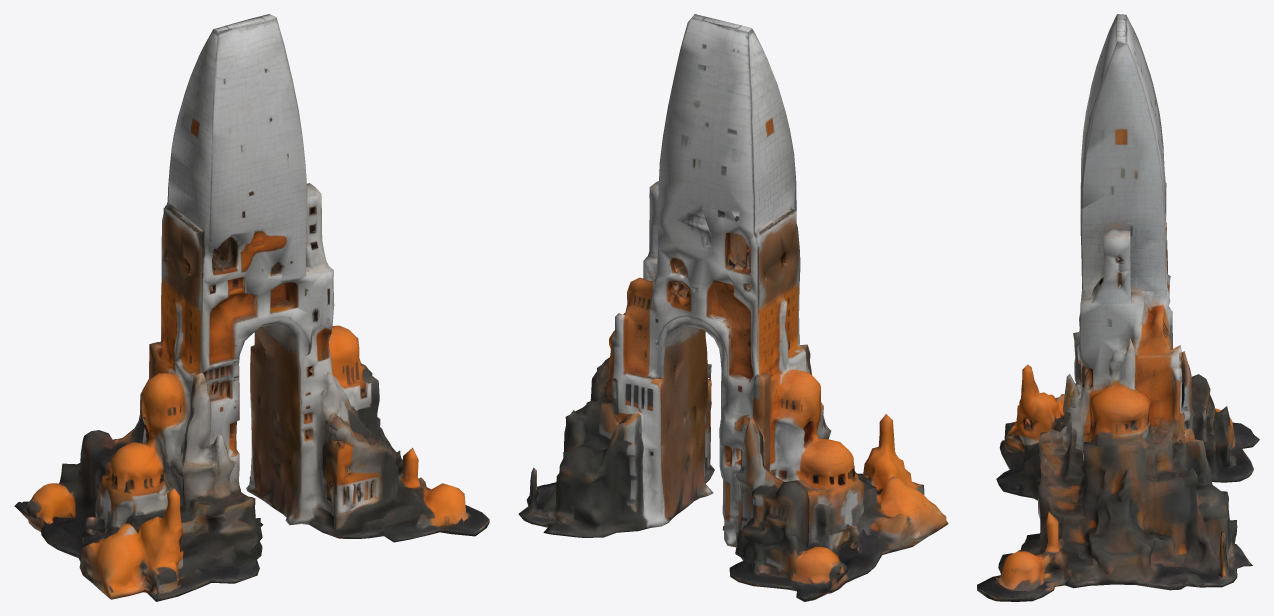
Rendered from SpaceRuin.fbx.
The picture shows the model from 3 angles, left to right: view 1: azimuth 30°, elevation 25°; view 2: azimuth 150°, elevation 25°; view 3: azimuth 270°, elevation 25°; orthographic projection. The views are drawn at different scales.
Visible parts, largest first — view 1: Mesh_0; view 2: Mesh_0; view 3: Mesh_0.
Part boxes in pixels (<box>): Mesh_0: <box>14,14,489,601</box>; Mesh_0: <box>518,14,948,601</box>; Mesh_0: <box>977,14,1259,601</box>.
Bounding box in the file's own units: 152 × 200 × 105.
1 material, 1 textured.
